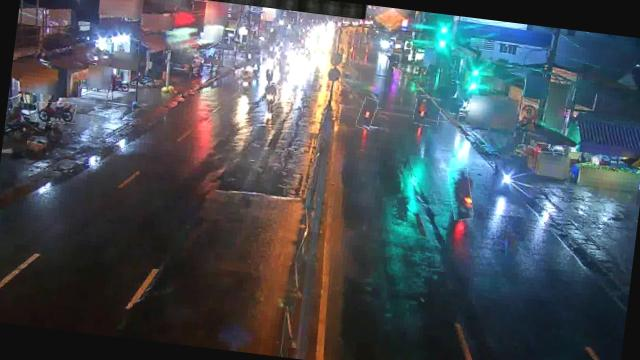Bike: (445, 165, 476, 221), (34, 99, 76, 126), (413, 94, 442, 127), (356, 96, 377, 130), (260, 84, 280, 109), (237, 68, 252, 92)
